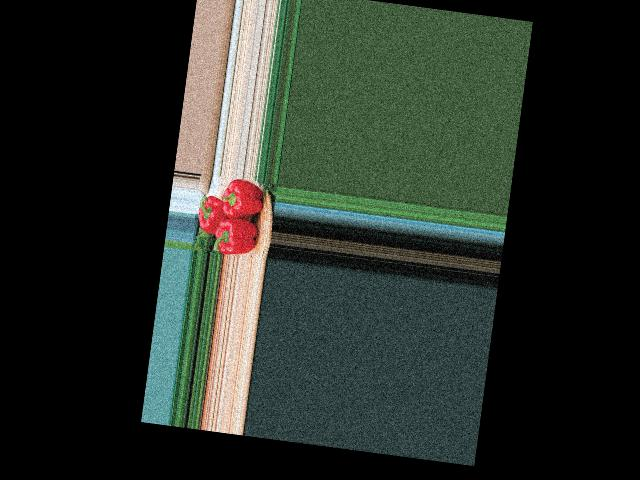bell_pepper: (212, 210, 265, 258)
